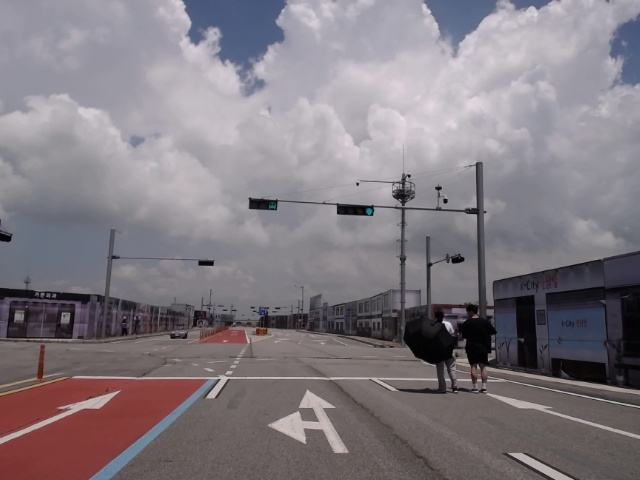straight_green_4: (336, 203, 373, 218)
